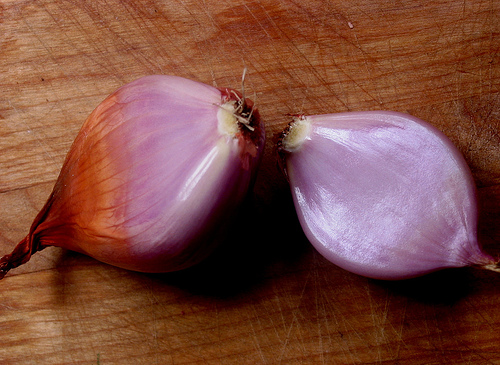onion: (0, 73, 267, 278), (274, 109, 499, 284)
